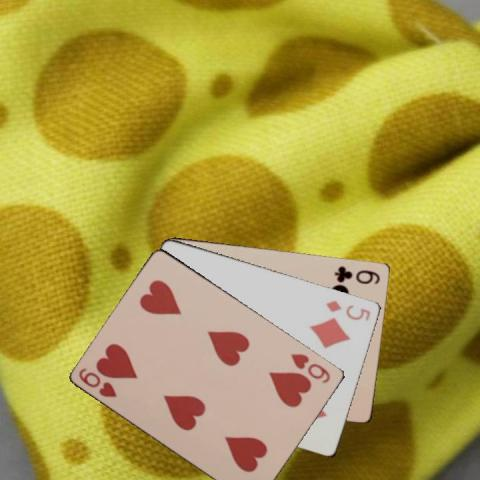5d: (323, 296, 372, 322)
6c: (332, 263, 382, 285)
6h: (288, 350, 332, 385), (76, 364, 119, 398)
